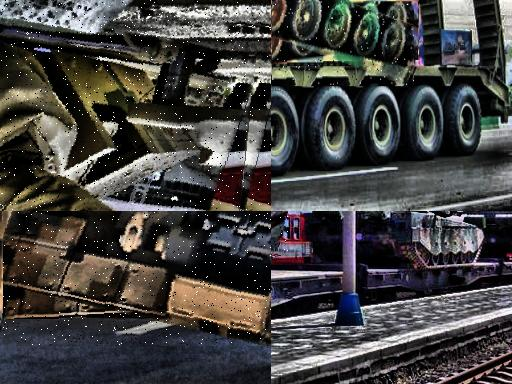tanks: (1, 1, 265, 212), (4, 212, 272, 347), (274, 3, 415, 86), (359, 212, 484, 270), (467, 212, 512, 261), (309, 212, 343, 265), (272, 212, 289, 256)
